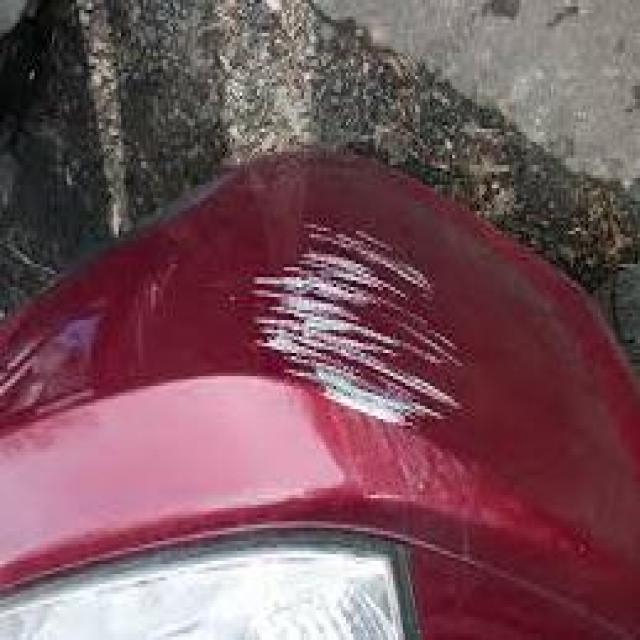scratch: (231, 210, 488, 440)
